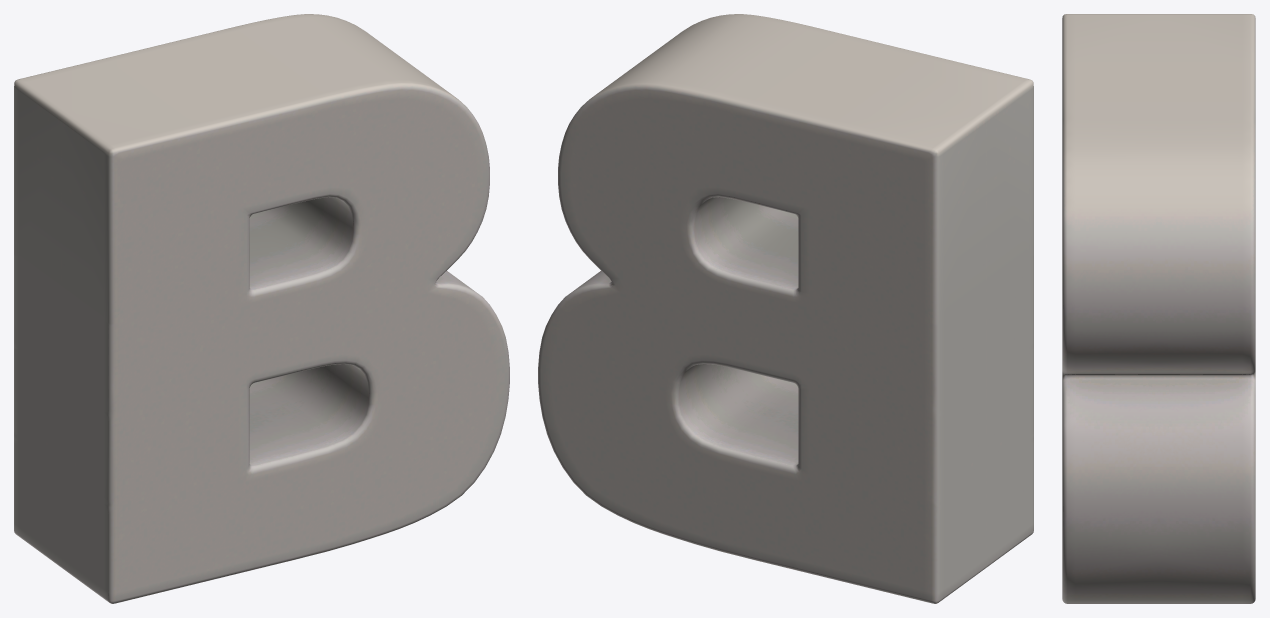
3 renders of one model, left to right at view 1: azimuth 30°, elevation 25°; view 2: azimuth 150°, elevation 25°; view 3: azimuth 270°, elevation 25°, orthographic. The views are drawn at different scales.
Visible parts, largest first — view 1: node_id30; view 2: node_id30; view 3: node_id30.
Part boxes in pixels (box(x1,y1,x2,y2)): node_id30: box(14, 14, 509, 603); node_id30: box(538, 14, 1033, 603); node_id30: box(1062, 14, 1255, 603).
Size of the model in its own units: 0.4721 by 0.512 by 0.2011.
1 material, 1 textured.
